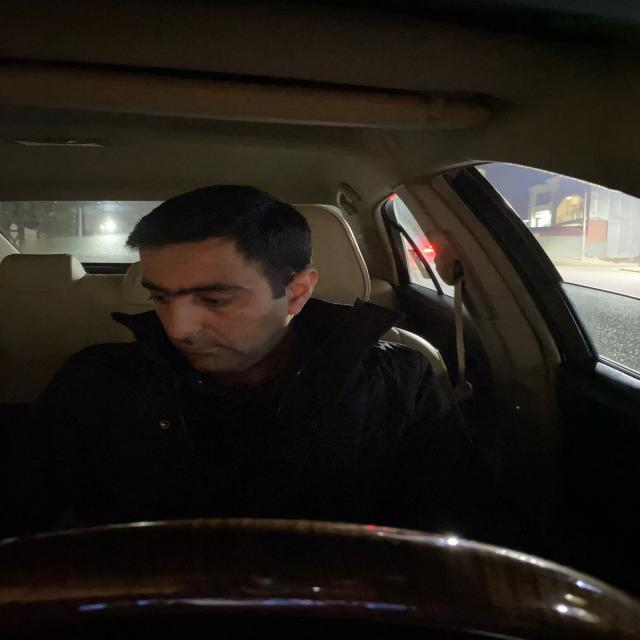person: (126, 180, 321, 378)
